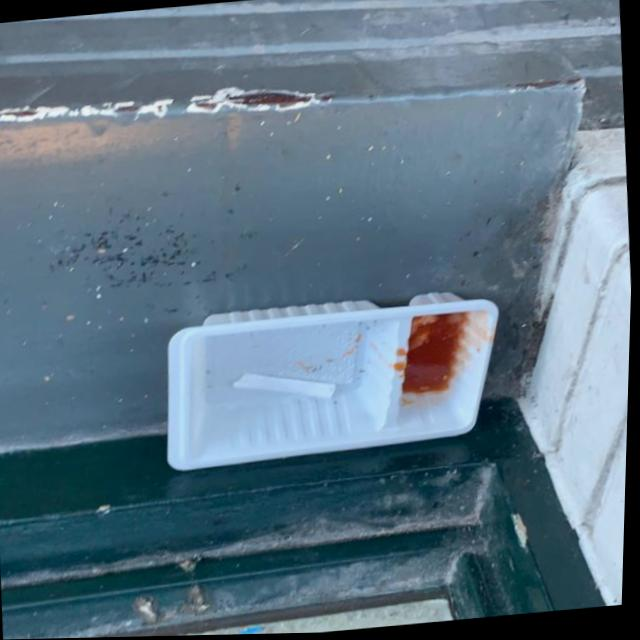Plastic: (156, 283, 513, 474)
